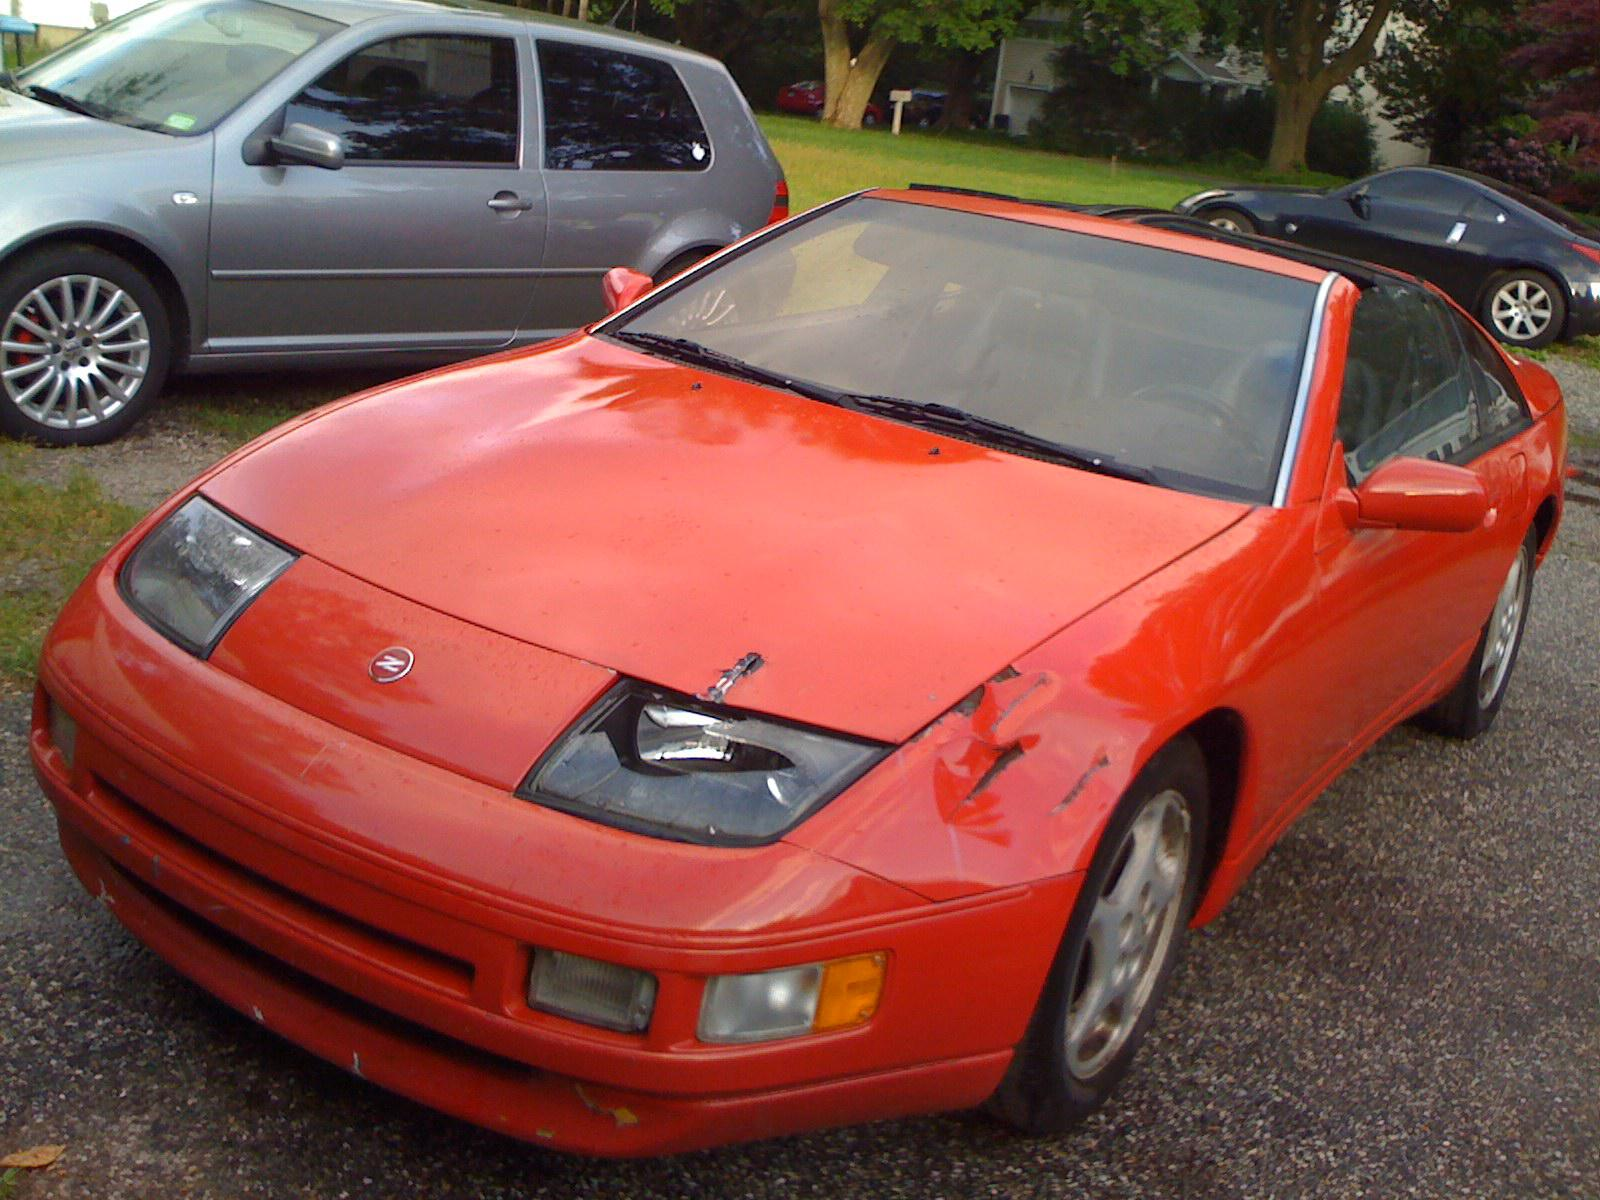fender-dent: (908, 626, 1246, 892)
